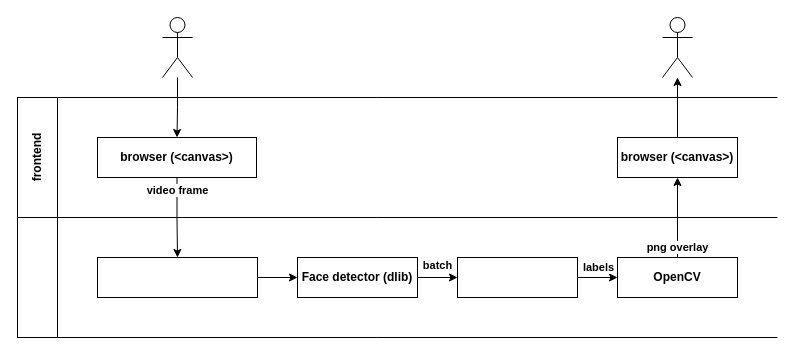
This 796x356 diagram has some shape labels left out. The centre of each missing label's shape, as x and y in pixels:
backend: the point at 37,277
CNN (tensorflow): the point at 517,277
server (Google VM): the point at 177,277
